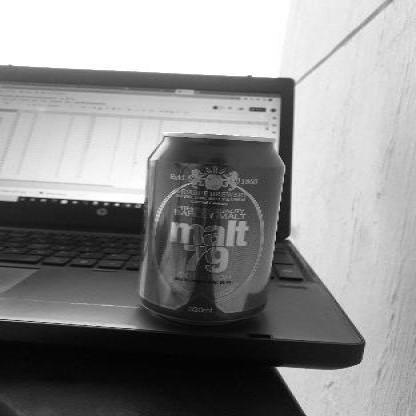alumunium_can: (137, 130, 287, 329)
